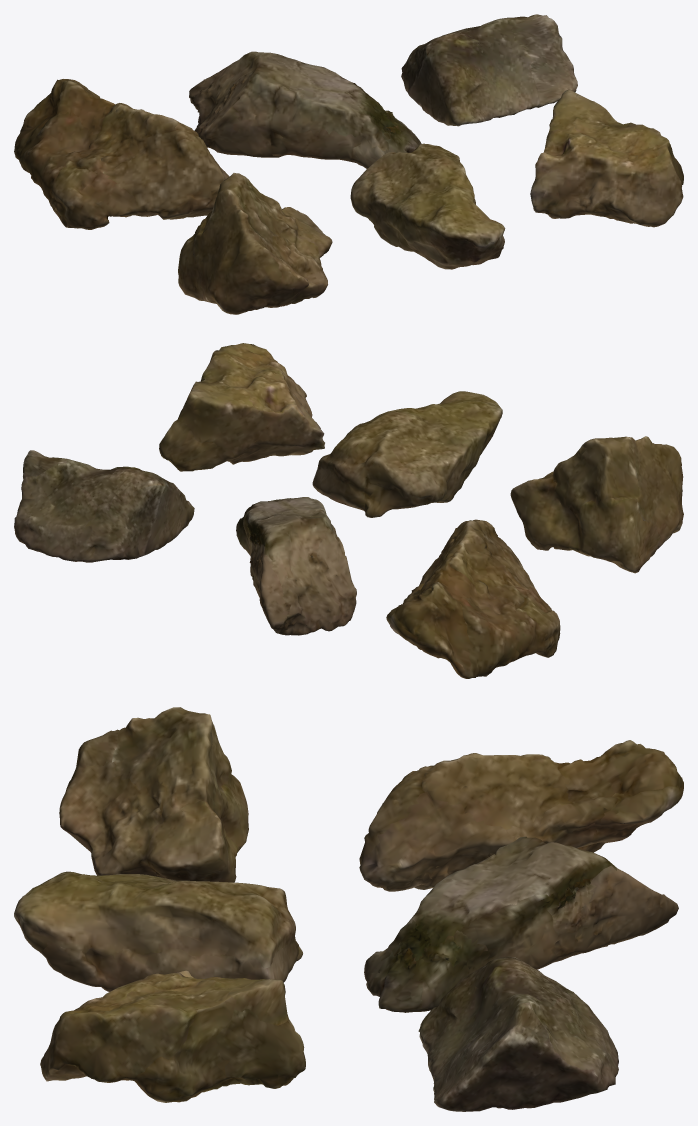
File: moss-rock.glb
The picture shows the model from 3 angles, top to bottom: view 1: azimuth 30°, elevation 25°; view 2: azimuth 150°, elevation 25°; view 3: azimuth 270°, elevation 25°; orthographic projection. The views are drawn at different scales.
Visible parts, largest first — view 1: rock_moss_set_01_rock01; view 2: rock_moss_set_01_rock01; view 3: rock_moss_set_01_rock01.
Part boxes in pixels (x1,y1,x2,y2): rock_moss_set_01_rock01: (14, 14, 683, 314); rock_moss_set_01_rock01: (14, 343, 683, 678); rock_moss_set_01_rock01: (14, 707, 683, 1111).
Bounding box in the file's own units: 8 × 1.77 × 6.94.
Materials: 1 (1 with a texture image).
